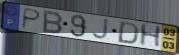9: (70, 14, 88, 39)
B: (42, 10, 65, 35)
D: (116, 21, 141, 45)
H: (137, 23, 163, 49)
J: (91, 18, 110, 41)
P: (20, 7, 43, 30)
